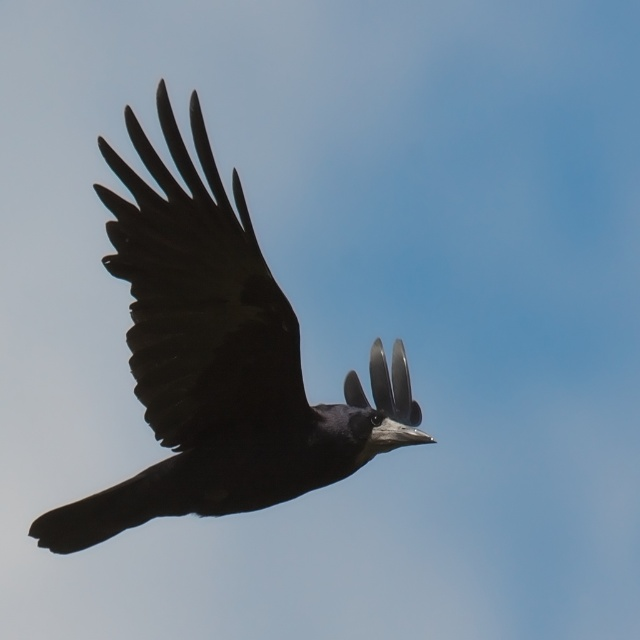Raven: (69, 67, 439, 576)
